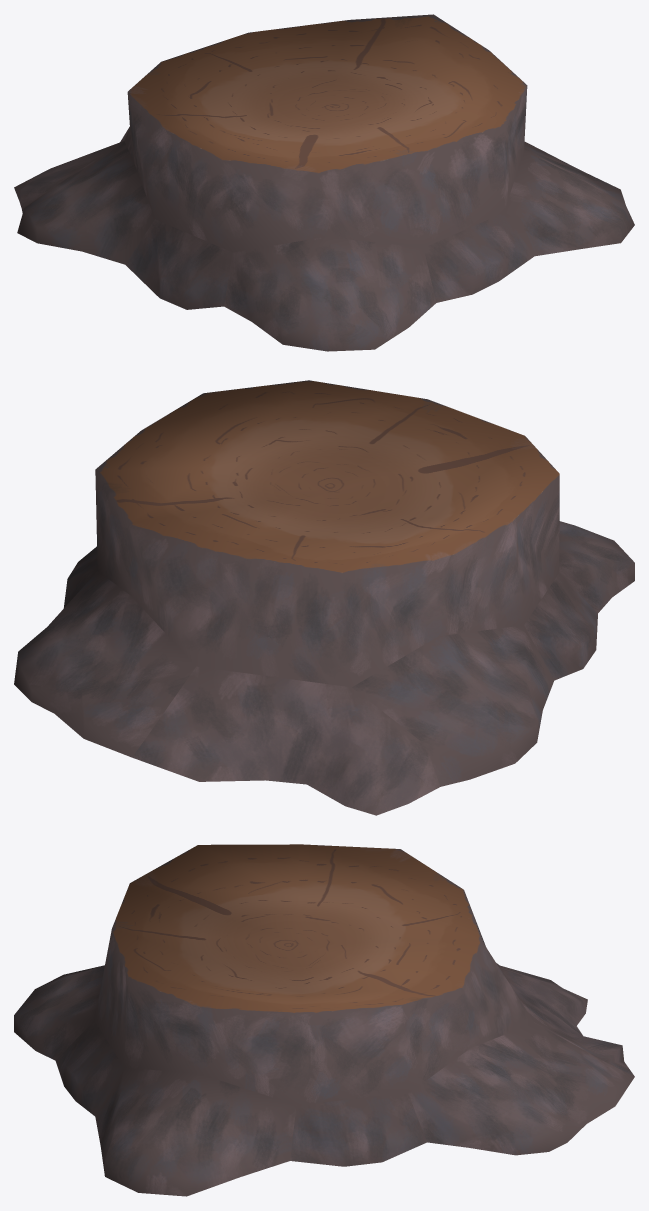
The model's file is Tronco.fbx.
3 views of the same model, one above another, from view 1: azimuth 30°, elevation 25°; view 2: azimuth 150°, elevation 25°; view 3: azimuth 270°, elevation 25° (orthographic). The views are drawn at different scales.
Parts seen in each view (by area): view 1: Cylinder; view 2: Cylinder; view 3: Cylinder.
Boxes of the visible parts, box(x1,y1,x2,y2) form: Cylinder: box(14, 14, 634, 351); Cylinder: box(14, 380, 634, 815); Cylinder: box(14, 844, 634, 1196).
Bounding box in the file's own units: 305 × 96.28 × 324.
